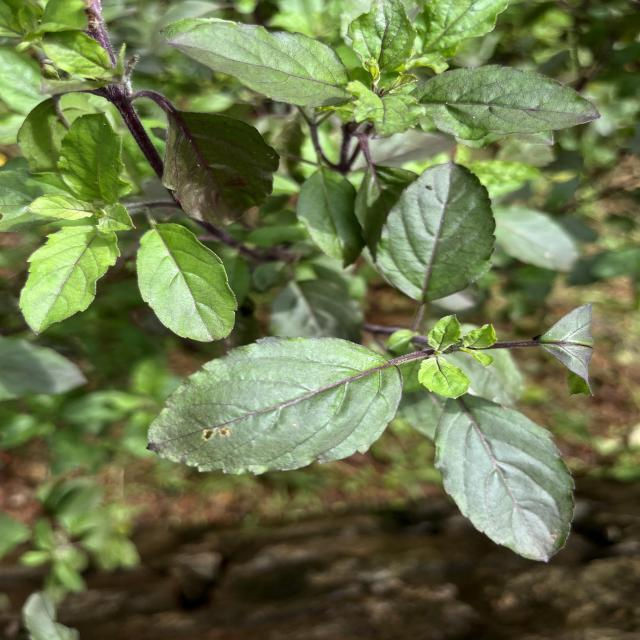Ocimum tenuiflorum: (145, 333, 405, 478), (432, 394, 578, 564), (134, 222, 240, 344), (16, 225, 123, 338)
